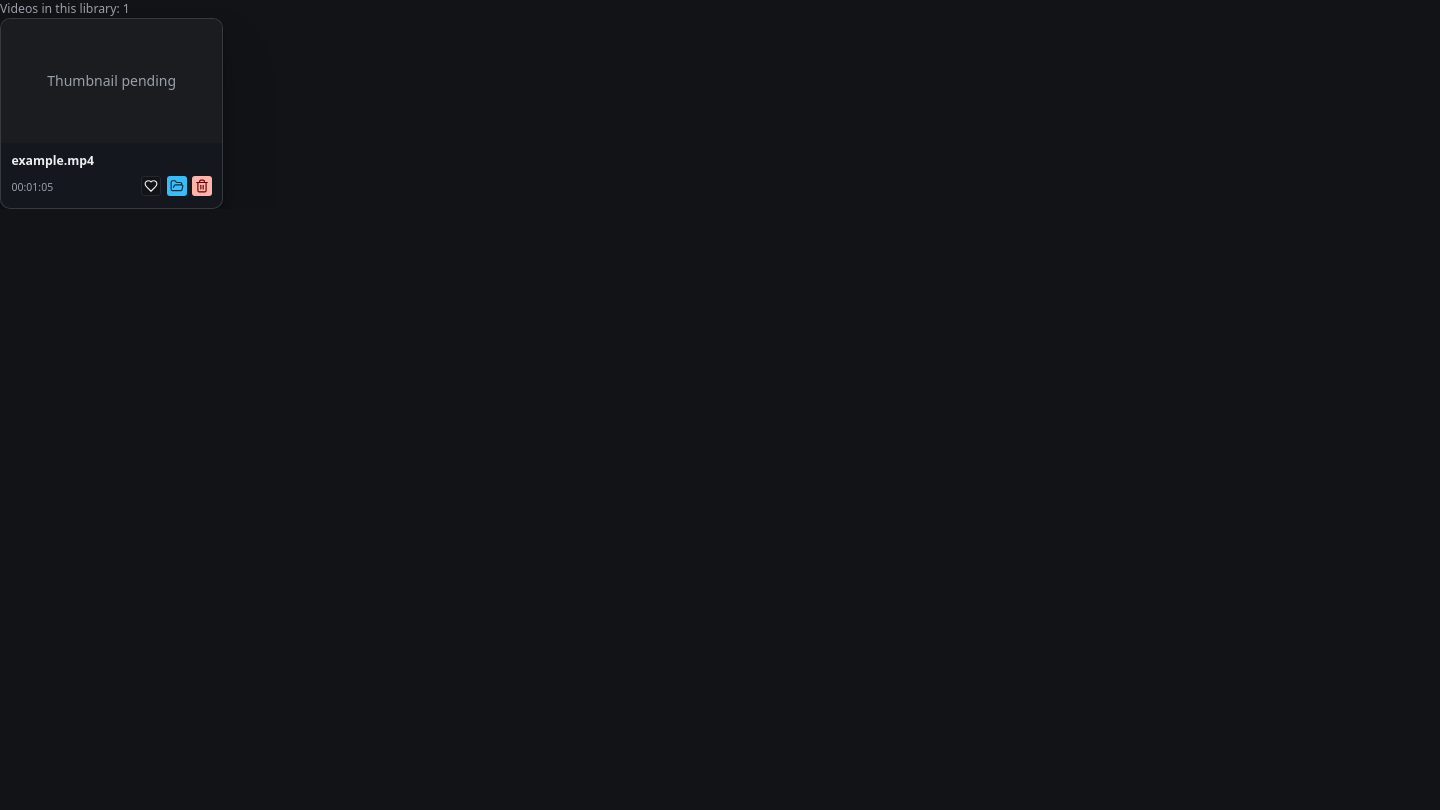
closes the menu a scroll leaves behind
Right-click the text "example.mp4": {"x": 112, "y": 113} [1,18,222,208]
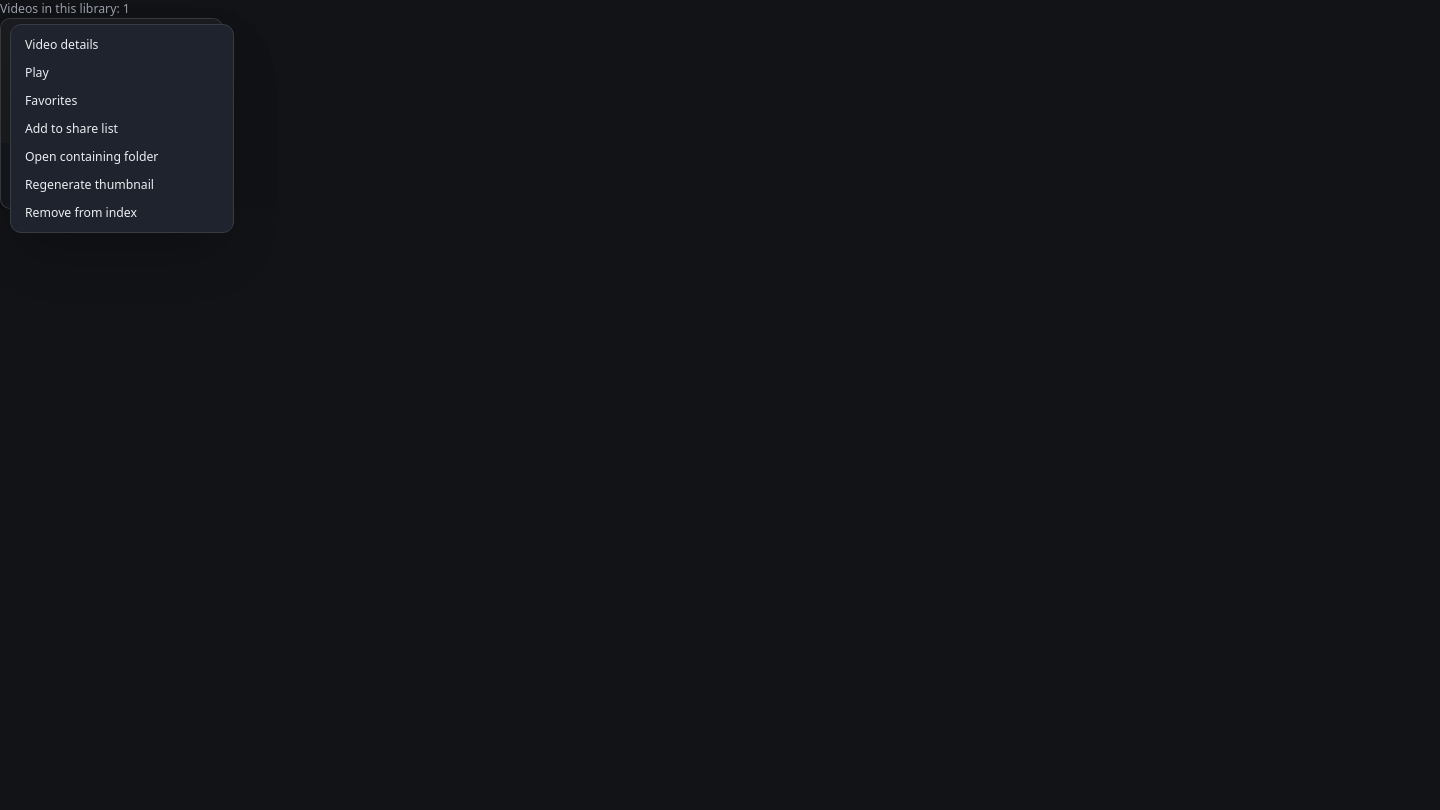
Now the menu item "Play" is shown, box [25,64,49,80]
